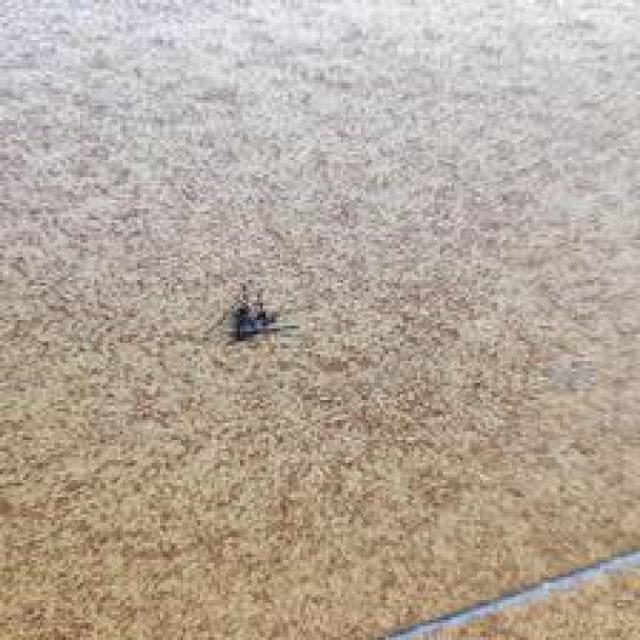Aedes albopictus: (203, 279, 300, 344)
